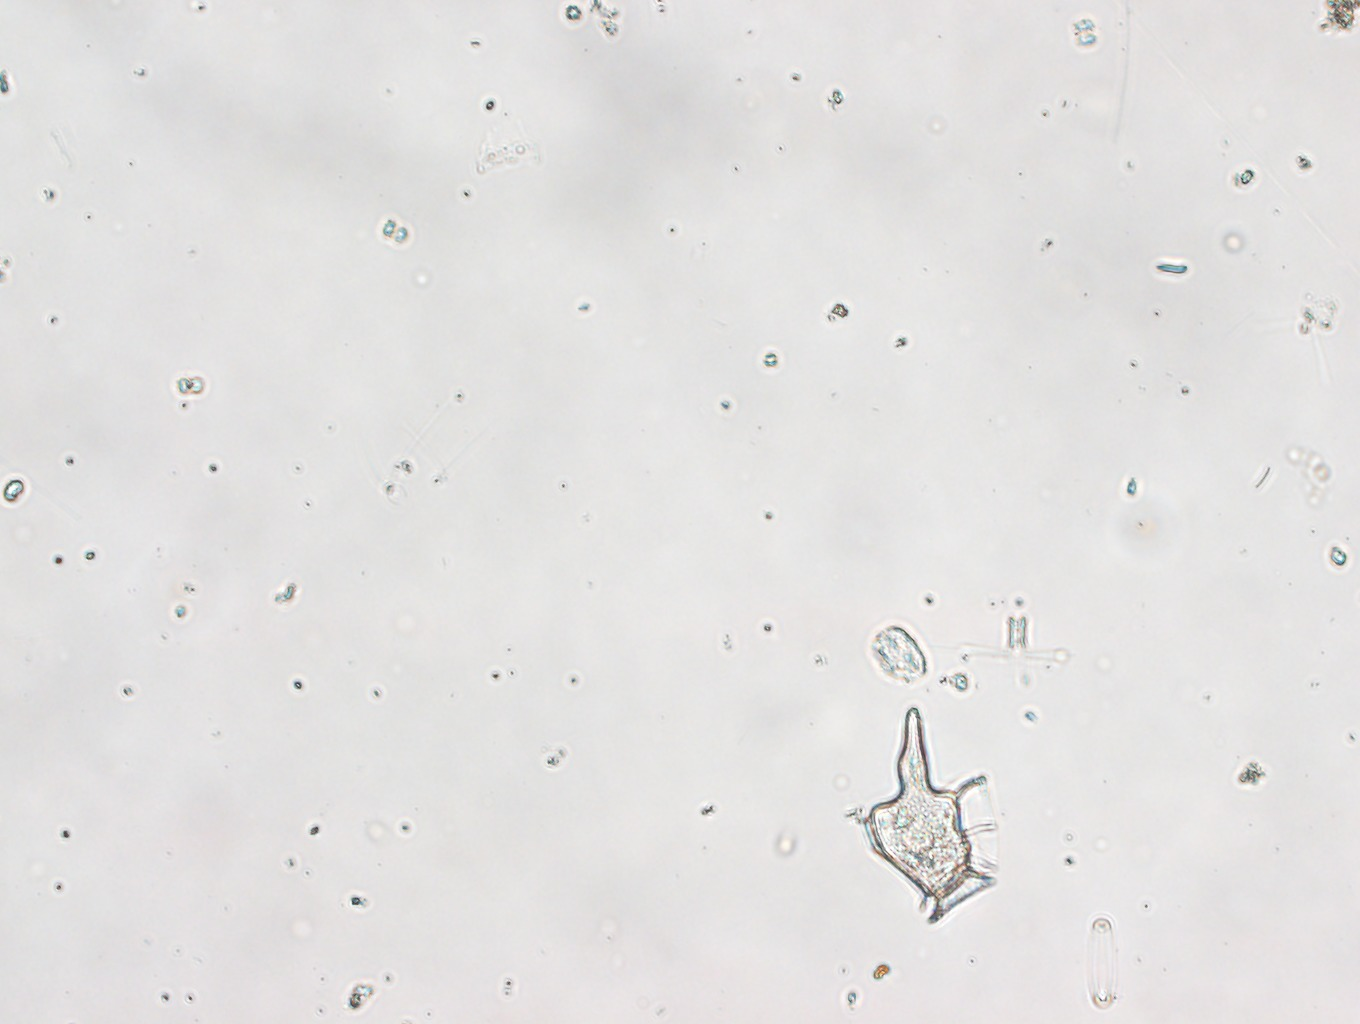dinophysis caudata: (864, 707, 997, 922)
